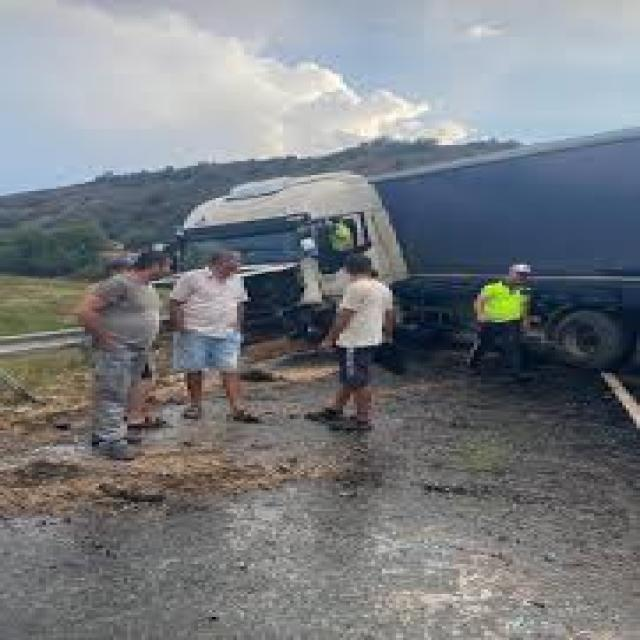Accident: (141, 161, 640, 375)
